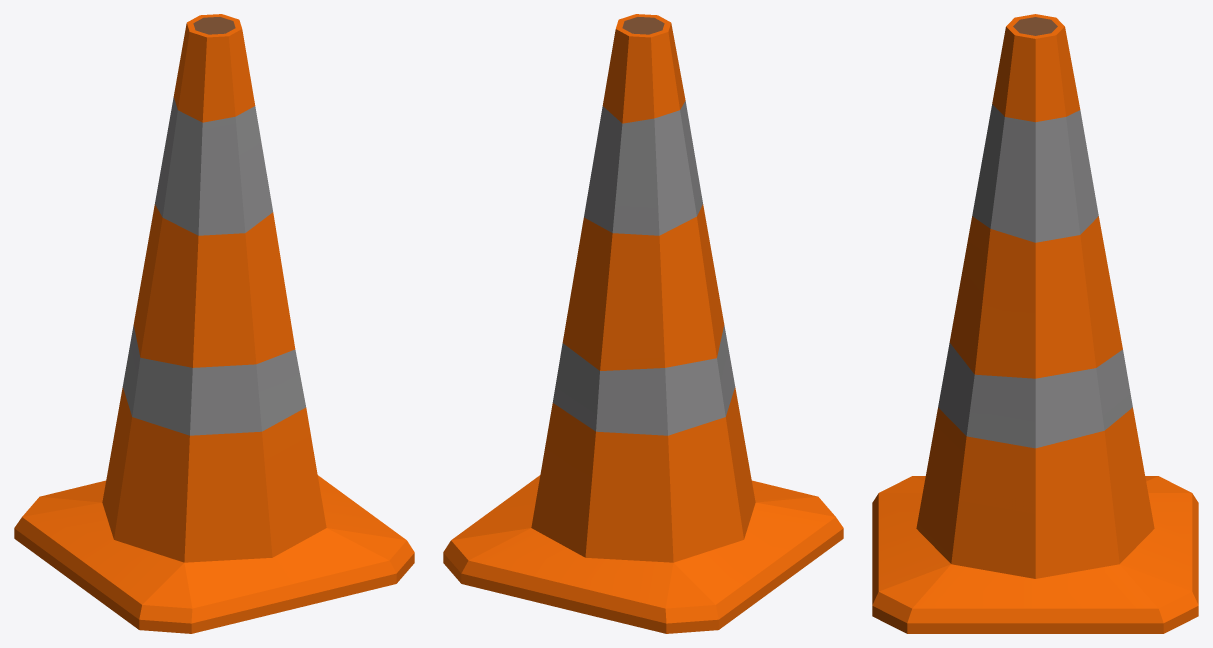
File: SM_Prop_Cone_01.obj
3 views of the same model, side by side, from view 1: azimuth 30°, elevation 25°; view 2: azimuth 150°, elevation 25°; view 3: azimuth 270°, elevation 25° (orthographic). The views are drawn at different scales.
Visible parts, largest first — view 1: SM_Prop_Cone_01_0; view 2: SM_Prop_Cone_01_0; view 3: SM_Prop_Cone_01_0.
Boxes of the visible parts, x1,y1,x2,y2 form: SM_Prop_Cone_01_0: (14, 14, 414, 633); SM_Prop_Cone_01_0: (443, 14, 843, 633); SM_Prop_Cone_01_0: (872, 14, 1198, 633).
Size of the model in its own units: 0.5251 by 0.9559 by 0.5251.
Materials: 1 (1 with a texture image).
